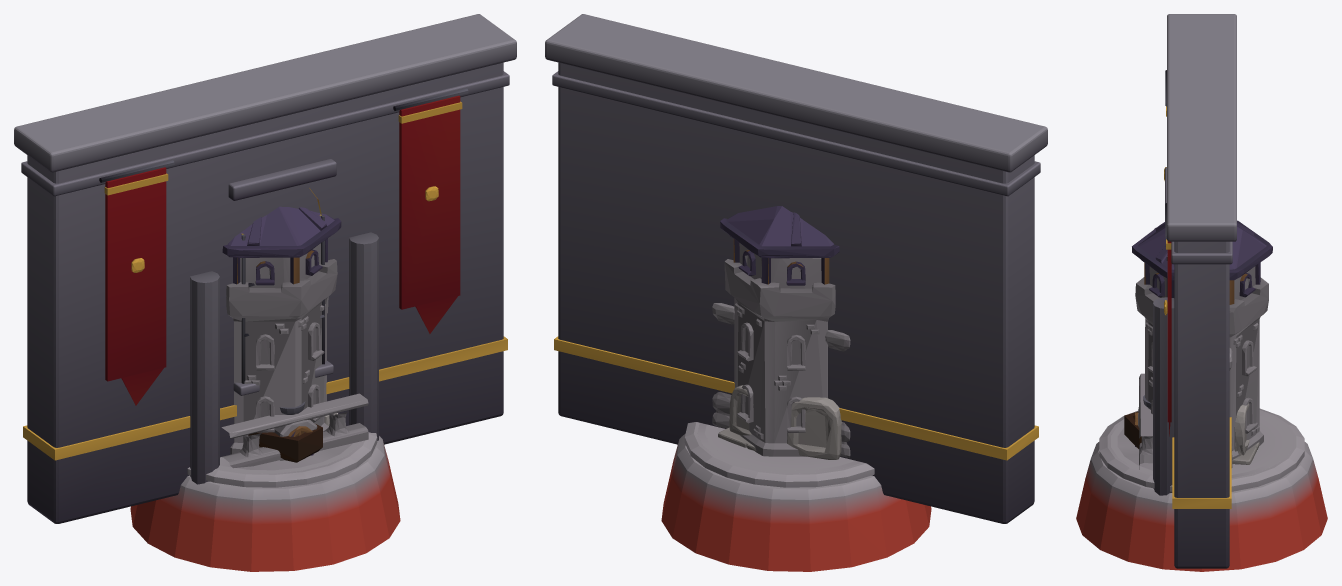
File: fortress-s8-PORlJ4q8.glb
The picture shows the model from 3 angles, left to right: view 1: azimuth 30°, elevation 25°; view 2: azimuth 150°, elevation 25°; view 3: azimuth 270°, elevation 25°; orthographic projection. The views are drawn at different scales.
Visible parts, largest first — view 1: sc_keep_hall, sc_tower_0, sc_z2_2, sc_z1_1, sc_z1_3; view 2: sc_keep_hall, sc_tower_0, sc_z1_1, sc_z1_3, sc_z2_2; view 3: sc_keep_hall, sc_tower_0, sc_z1_1, sc_z2_2, sc_z1_3.
Part boxes in pixels (x1,y1,x2,y2): sc_keep_hall: [14, 14, 516, 523]; sc_tower_0: [130, 206, 400, 571]; sc_z2_2: [220, 393, 368, 470]; sc_z1_1: [187, 413, 377, 487]; sc_z1_3: [218, 401, 360, 473]; sc_keep_hall: [545, 14, 1047, 523]; sc_tower_0: [661, 206, 931, 571]; sc_z1_1: [684, 385, 874, 487]; sc_z1_3: [697, 303, 862, 473]; sc_z2_2: [704, 424, 855, 470]; sc_keep_hall: [1153, 14, 1236, 568]; sc_tower_0: [1076, 220, 1327, 571]; sc_z1_1: [1099, 403, 1304, 491]; sc_z2_2: [1117, 373, 1286, 474]; sc_z1_3: [1111, 348, 1292, 477].
Size of the model in its own units: 27 by 23.85 by 13.6.
